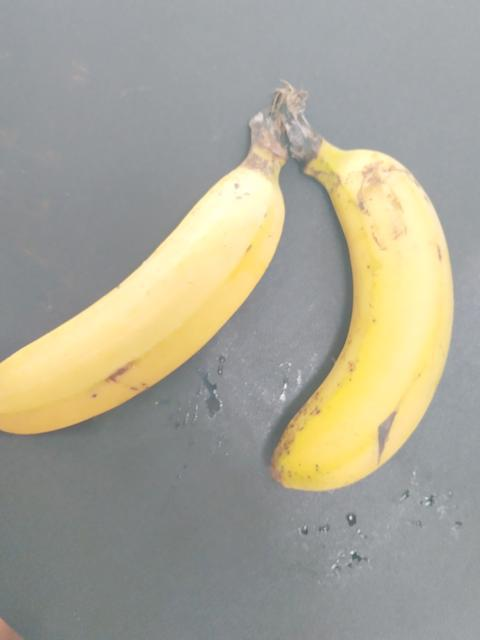freshripe: (0, 162, 276, 445)
ripe: (261, 142, 453, 504)
